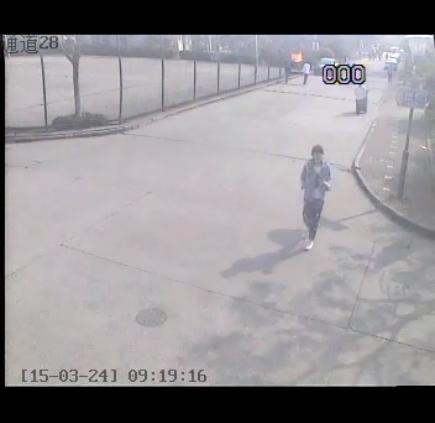person: (292, 130, 333, 256), (344, 72, 377, 113), (299, 58, 315, 83), (278, 55, 291, 81)
